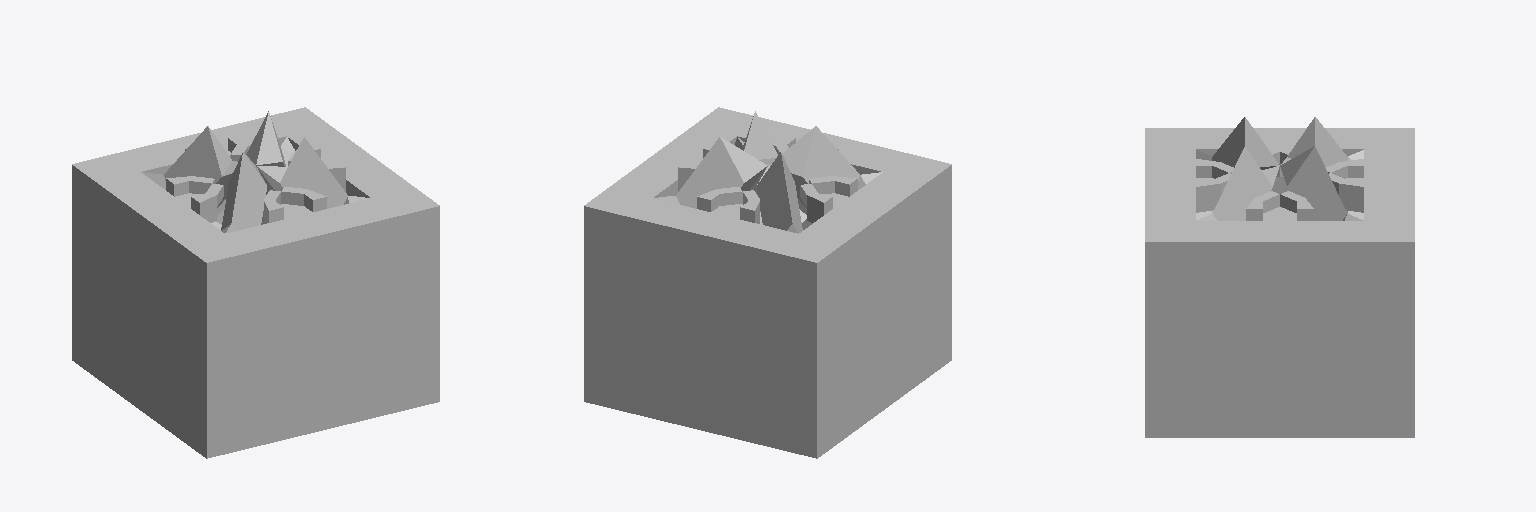
The model's file is SunrayCollector.obj.
The picture shows the model from 3 angles: view 1: azimuth 30°, elevation 25°; view 2: azimuth 150°, elevation 25°; view 3: azimuth 270°, elevation 25°; orthographic projection.
Visible parts, largest first — view 1: pCube1; view 2: pCube1; view 3: pCube1.
Part boxes in pixels (bbox=[...]): pCube1: bbox=[72, 107, 439, 458]; pCube1: bbox=[584, 107, 951, 458]; pCube1: bbox=[1145, 117, 1414, 437].
Size of the model in its own units: 1 by 1.02 by 1.